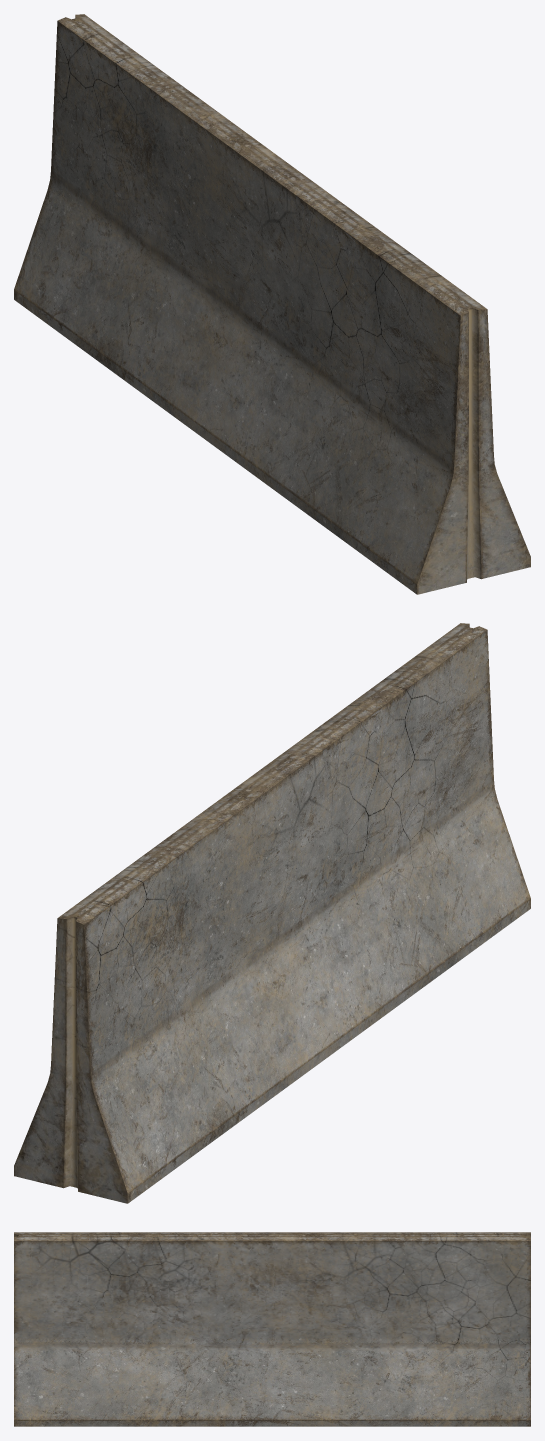
The model's file is ConcreteBarrier 1.fbx.
The picture shows the model from 3 angles, top to bottom: view 1: azimuth 30°, elevation 25°; view 2: azimuth 150°, elevation 25°; view 3: azimuth 270°, elevation 25°; orthographic projection. The views are drawn at different scales.
Parts seen in each view (by area): view 1: pCube1; view 2: pCube1; view 3: pCube1.
Part boxes in pixels (x1,y1,x2,y2): pCube1: [14, 14, 530, 594]; pCube1: [14, 623, 530, 1203]; pCube1: [14, 1232, 530, 1426].
Size of the model in its own units: 0.5499 by 1.25 by 3.38.
